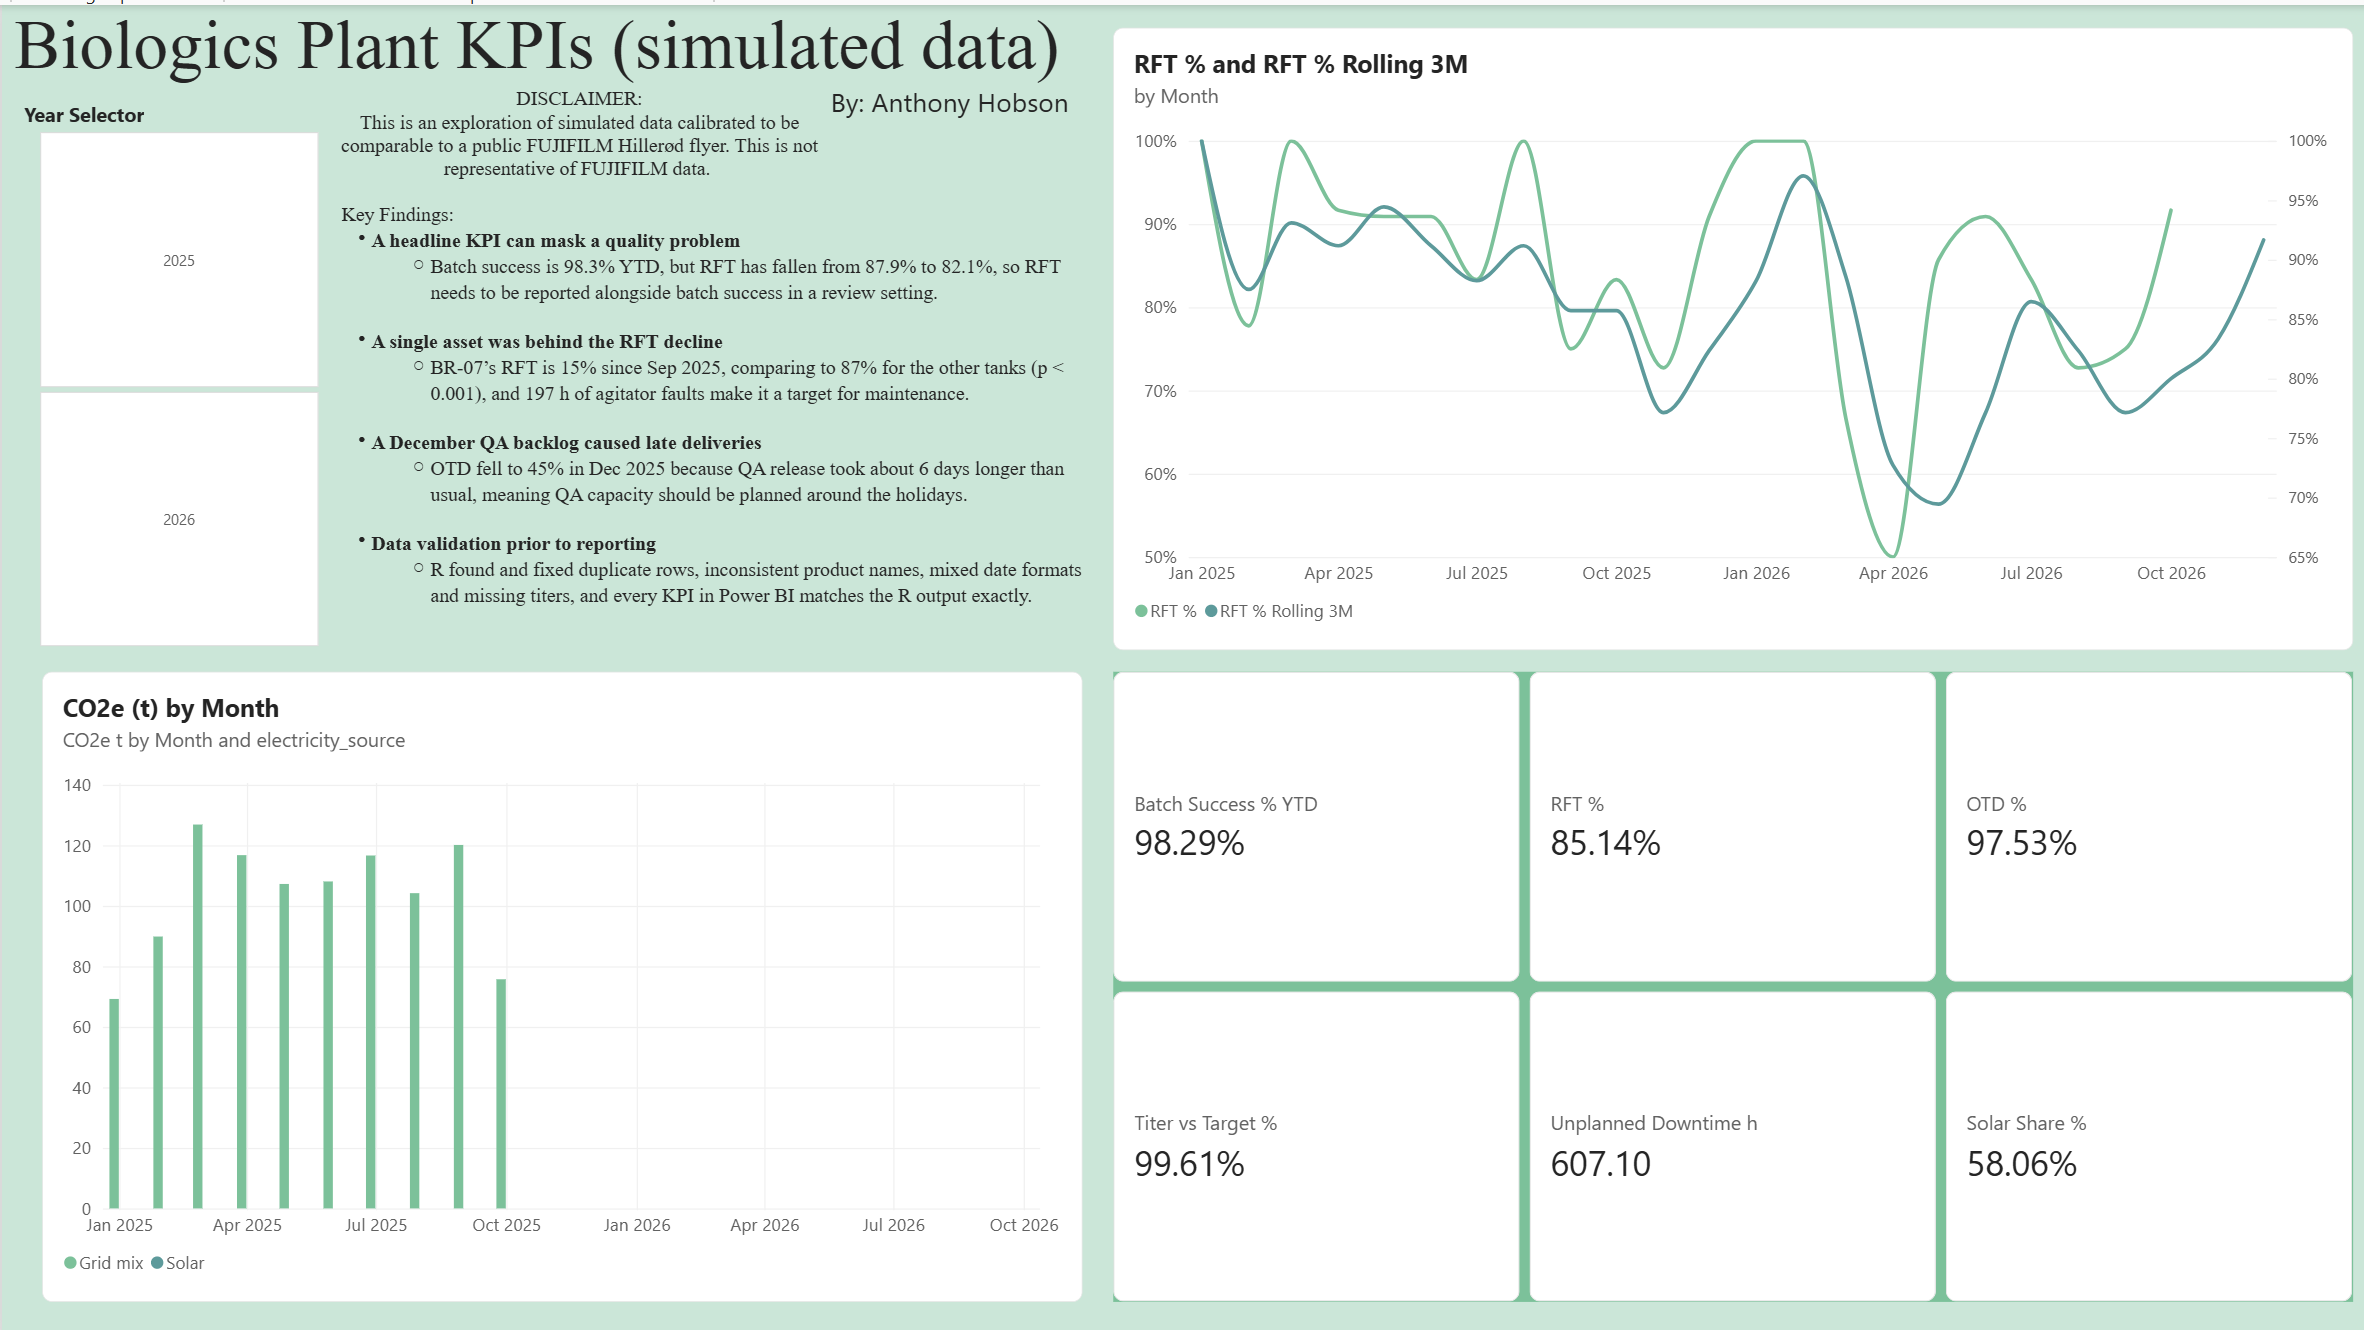

The dashboard page shown, as its layout file describes it:
{"tool":"powerbi","page":{"name":"Site Overview","canvas":[1920,1080],"ordinal":0},"visuals":[{"type":"textbox","box":[9.5,0,853.9,131.5],"z":0},{"type":"slicer","fields":{"Values":["date.Year"]},"box":[10,78.3,265,443.3],"z":1000},{"type":"cardVisual","fields":{"Data":["_Measures.Batch Success % YTD","_Measures.RFT %","_Measures.OTD %","_Measures.Titer vs Target","_Measures.Unplanned Downtime h","_Measures.Solar Share %"]},"box":[900,540,1004,510],"z":2000},{"type":"lineChart","fields":{"Category":["date.Month"],"Y":["_Measures.RFT %"],"Y2":["_Measures.RFT % Rolling 3M"]},"box":[900,18,1004,504],"z":3000},{"type":"clusteredColumnChart","title":"CO2e (t) by Month","fields":{"Category":["date.Month"],"Series":["batches_clean.electricity_source"],"Y":["_Measures.CO2e t"]},"box":[32,540,842,510],"z":4000},{"type":"textbox","box":[273.5,48.2,388.3,99.2],"z":5000},{"type":"textbox","box":[274.9,160.1,610.8,379.8],"z":5001}]}

Visuals, with their boxes in screenshot pixels (x1, y1, x2, y2), scaled from the page's 1920x1080 canvas onto the 2364x1330 screenshot:
textbox: bbox=[12, 0, 1063, 162]
slicer - date.Year: bbox=[12, 96, 339, 642]
cardVisual - _Measures.Batch Success % YTD x _Measures.RFT %: bbox=[1108, 665, 2344, 1293]
lineChart - date.Month x _Measures.RFT %: bbox=[1108, 22, 2344, 643]
"CO2e (t) by Month" clusteredColumnChart: bbox=[39, 665, 1076, 1293]
textbox: bbox=[337, 59, 815, 182]
textbox: bbox=[338, 197, 1091, 665]
